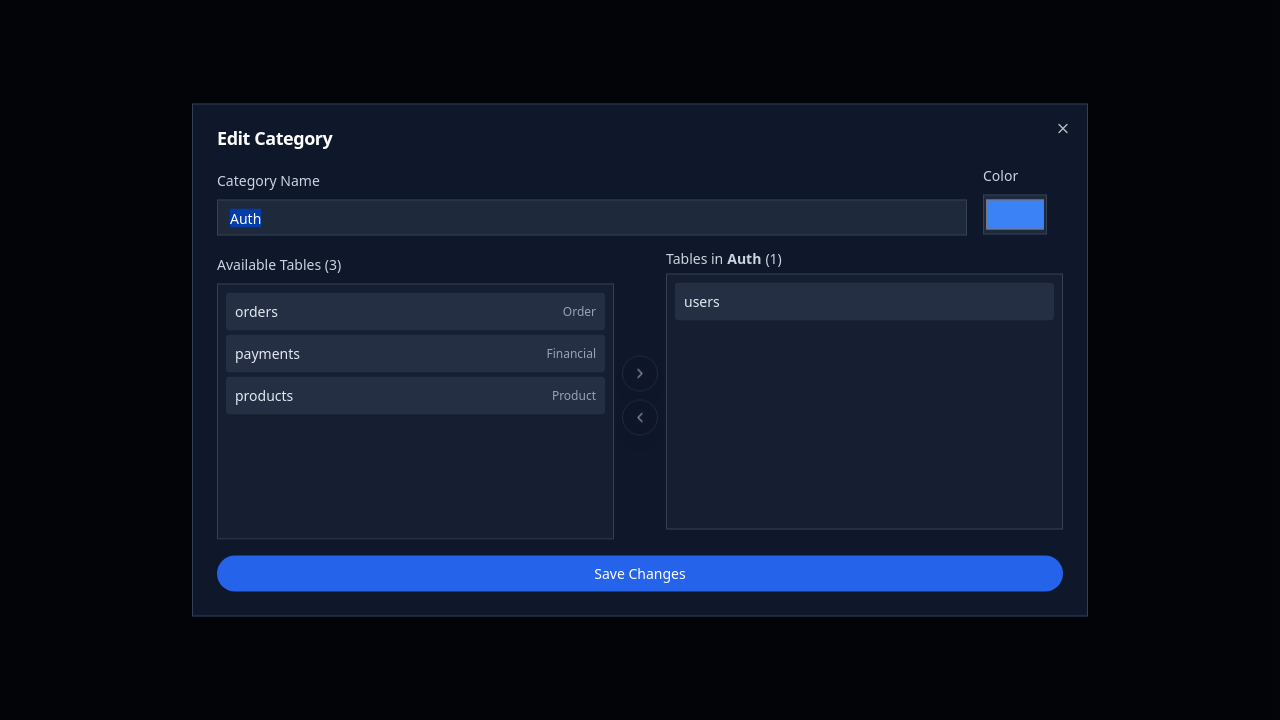
Test: CategoryEditDialog › User Interactions › should enable 'Add to Category' button when tables are selected
Check: the 2nd button is disabled, box [622,356,658,392]
Click the text "products" at (264, 396), box [235,386,293,406]
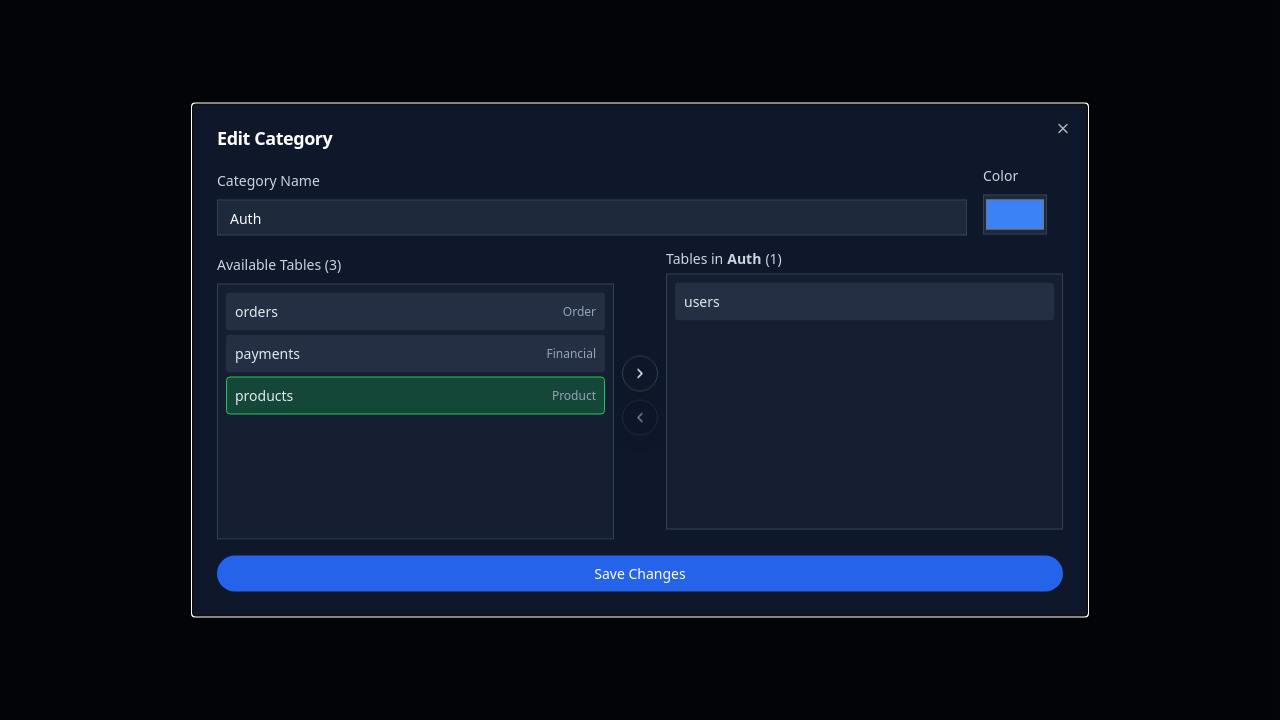
Check: the 2nd button is enabled, box [622,356,658,392]
